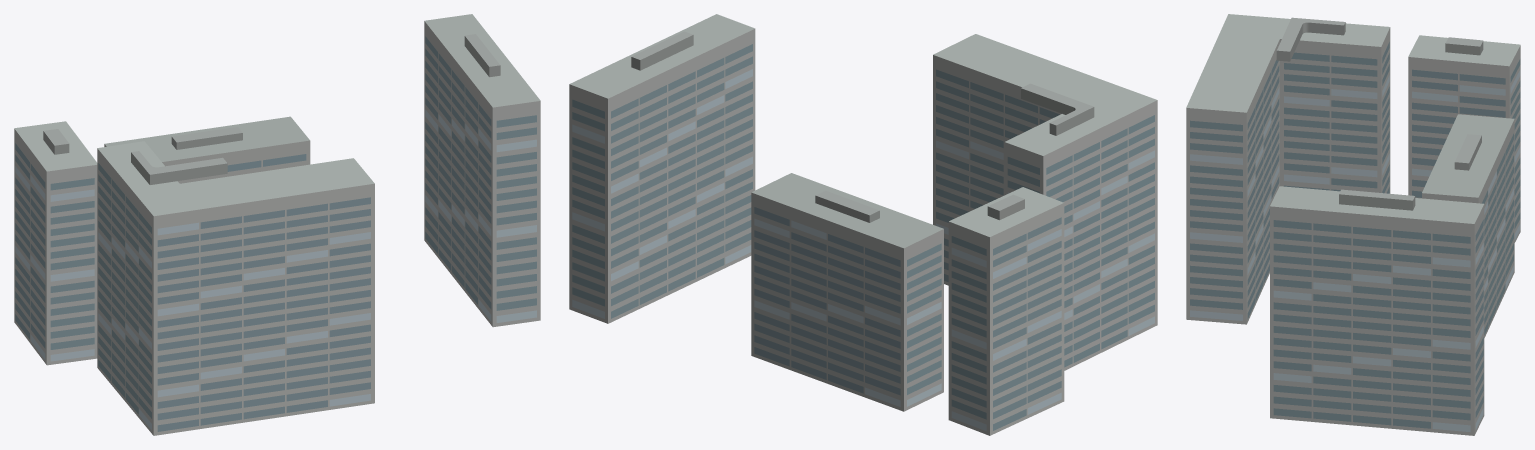
Rendered from apt-a15009603.glb.
The picture shows the model from 3 angles, left to right: view 1: azimuth 30°, elevation 25°; view 2: azimuth 150°, elevation 25°; view 3: azimuth 270°, elevation 25°; orthographic projection. The views are drawn at different scales.
Visible parts, largest first — view 1: apt-a15009603; view 2: apt-a15009603; view 3: apt-a15009603.
Boxes of the visible parts, x1,y1,x2,y2 form: apt-a15009603: (14,14,540,435); apt-a15009603: (569,14,1157,435); apt-a15009603: (1186,14,1520,435).
Size of the model in its own units: 105 by 51 by 69.71.
